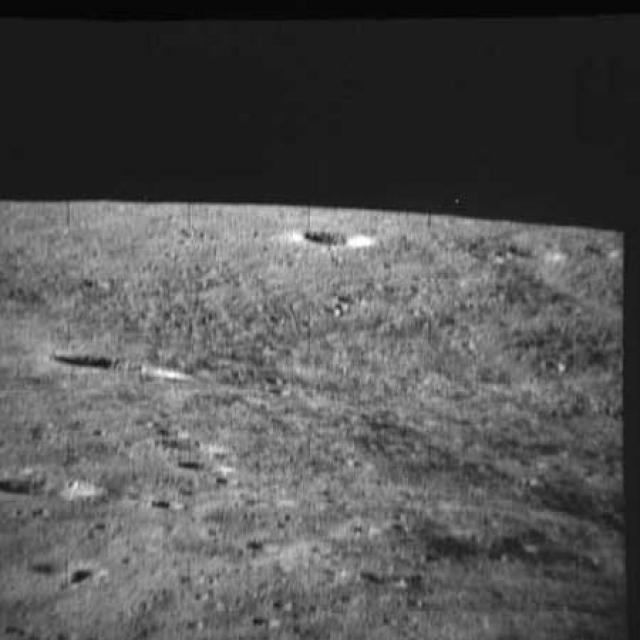crater: (0, 459, 120, 513), (52, 337, 129, 391), (288, 225, 377, 258), (152, 449, 237, 481), (505, 235, 566, 265), (580, 236, 620, 266)
